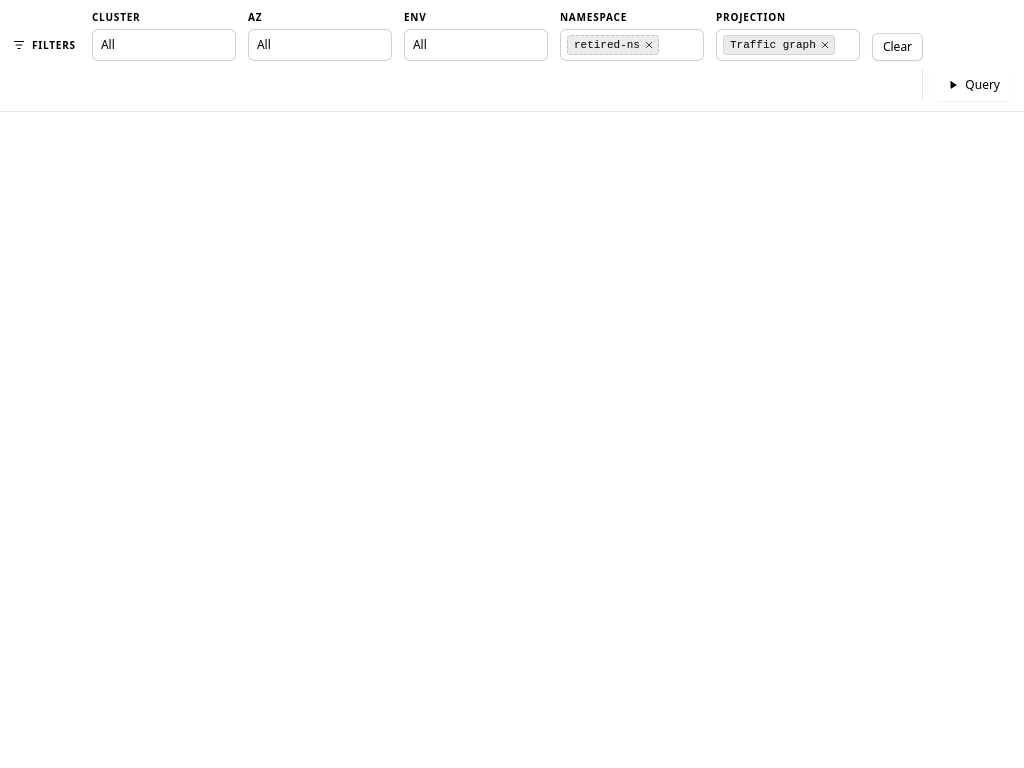
FilterBar › keeps a selected value listed even after it leaves the inventory
Click the button with aria-label "Namespace".
click(632, 45)  # box x1=560 y1=29 x2=704 y2=61
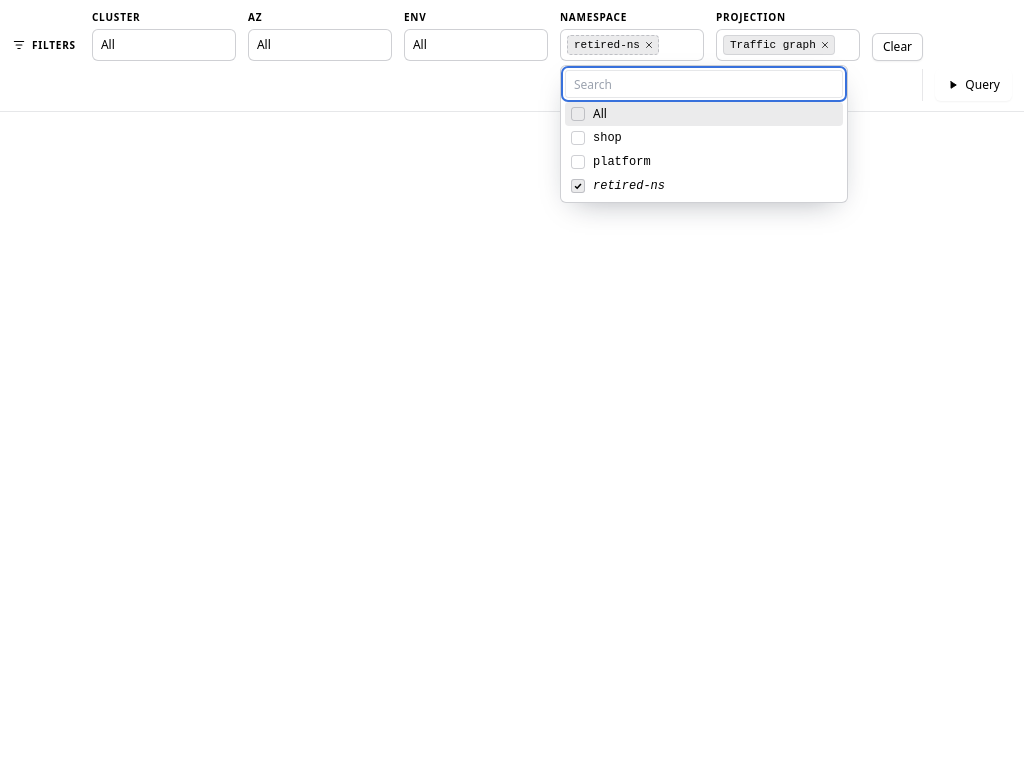
Check: the option "shop" is shown, box x1=571 y1=131 x2=622 y2=145
